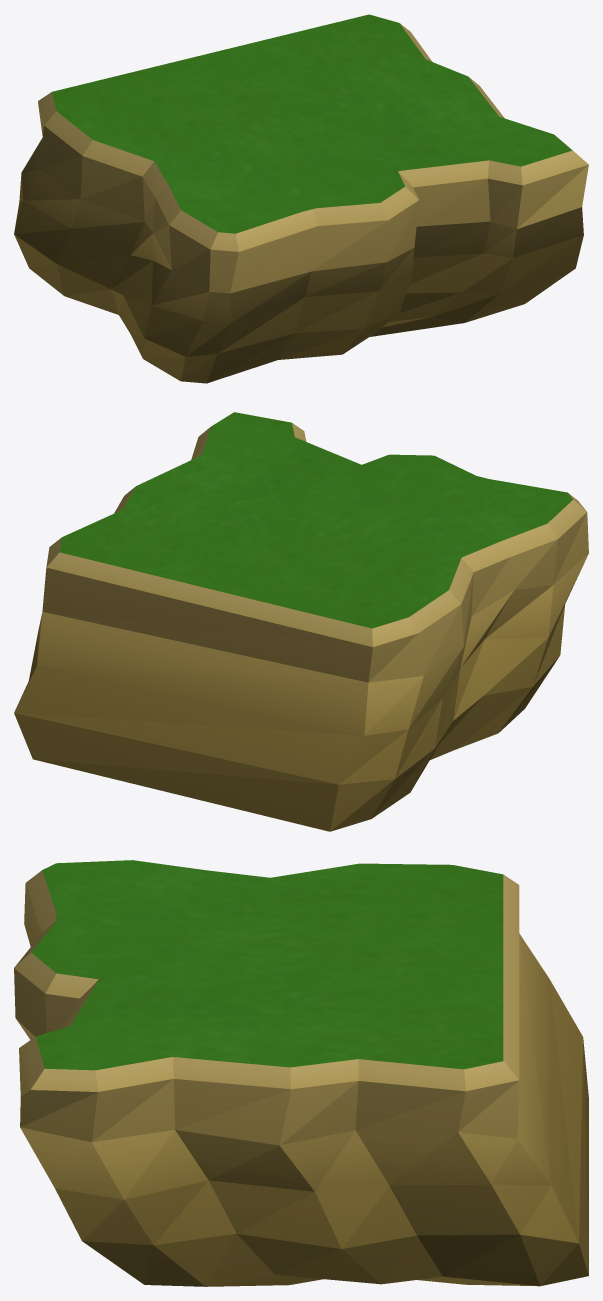
File: PlatformGround_03.FBX
3 views of the same model, one above another, from view 1: azimuth 30°, elevation 25°; view 2: azimuth 150°, elevation 25°; view 3: azimuth 270°, elevation 25° (orthographic). The views are drawn at different scales.
Parts seen in each view (by area): view 1: Object023; view 2: Object023; view 3: Object023.
Boxes of the visible parts, x1,y1,x2,y2 form: Object023: (14, 14, 588, 383); Object023: (14, 412, 588, 831); Object023: (14, 860, 588, 1286).
Size of the model in its own units: 169 by 90.98 by 178.
